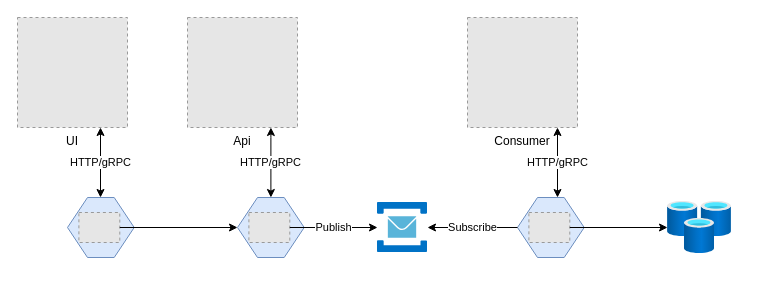
This 777x292 diagram has some shape labels left out. Grey dashed boxes stand in for pictures. Here are the shapes that lost their labels. From the top down, the centre of each, then its label:
the point at 402,227: Azure Service Bus
the point at 699,227: Azure Cache for Redis
